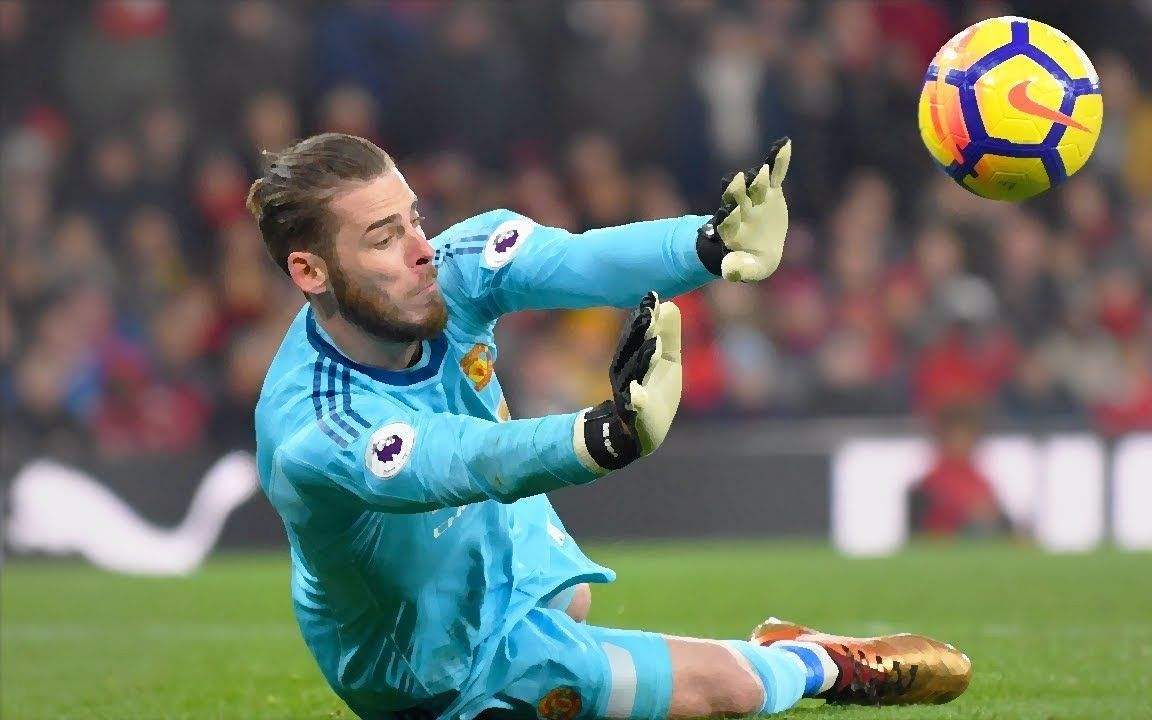no-phone: (604, 289, 687, 459), (706, 134, 798, 286)
